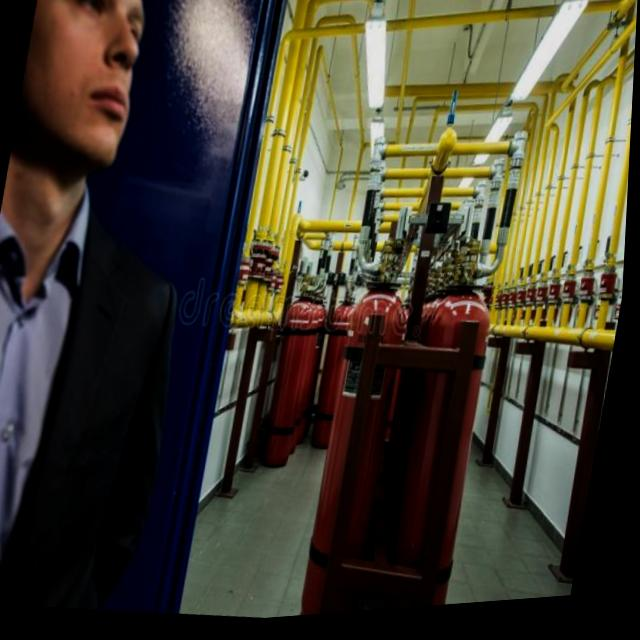FireExtinguisher: (376, 265, 511, 617), (296, 259, 423, 621), (256, 270, 328, 481), (310, 295, 366, 453)
